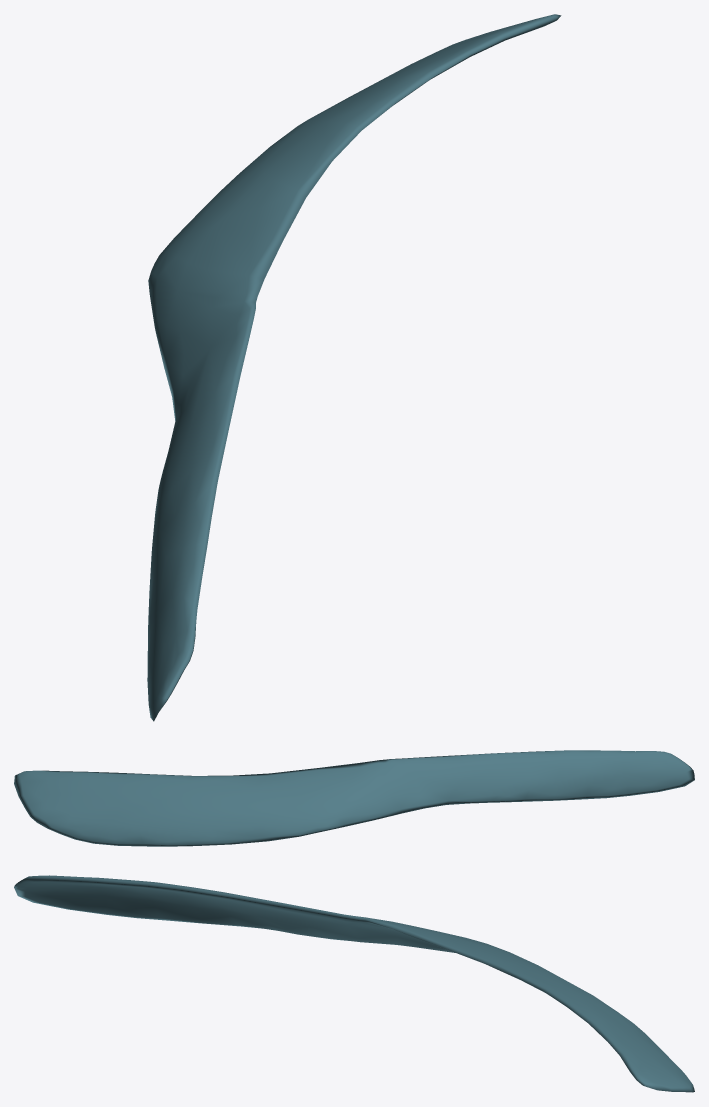
The model's file is Ascending_part_of_trapezius_muscle-Clavicular_insertion.l_Cone..glb.
3 renders of one model, top to bottom at view 1: azimuth 30°, elevation 25°; view 2: azimuth 150°, elevation 25°; view 3: azimuth 270°, elevation 25°, orthographic. The views are drawn at different scales.
Visible parts, largest first — view 1: Ascending_part_of_trapezius_muscle-Clavicular_insertion.l_Co; view 2: Ascending_part_of_trapezius_muscle-Clavicular_insertion.l_Co; view 3: Ascending_part_of_trapezius_muscle-Clavicular_insertion.l_Co.
Part boxes in pixels (x1,y1,x2,y2): Ascending_part_of_trapezius_muscle-Clavicular_insertion.l_Co: (147,14,561,721); Ascending_part_of_trapezius_muscle-Clavicular_insertion.l_Co: (14,750,694,846); Ascending_part_of_trapezius_muscle-Clavicular_insertion.l_Co: (14,875,694,1092).
Size of the model in its own units: 0.049 by 0.00863 by 0.0496.
